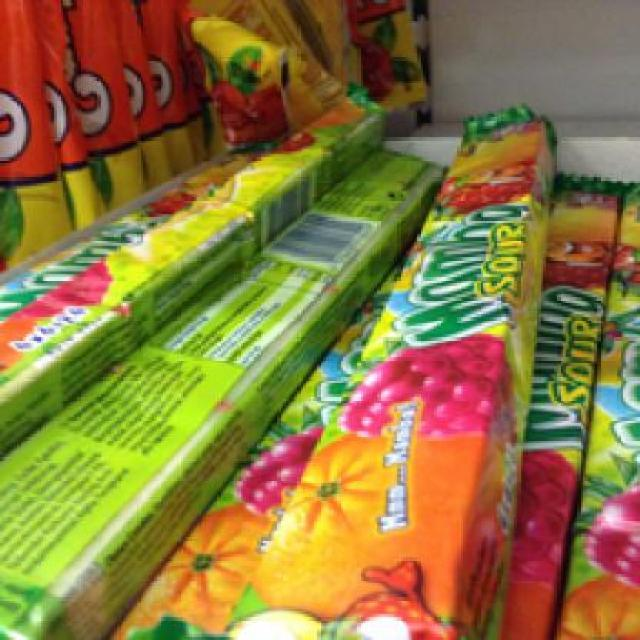Candy: (42, 125, 428, 638), (294, 112, 552, 638), (492, 154, 638, 617)
